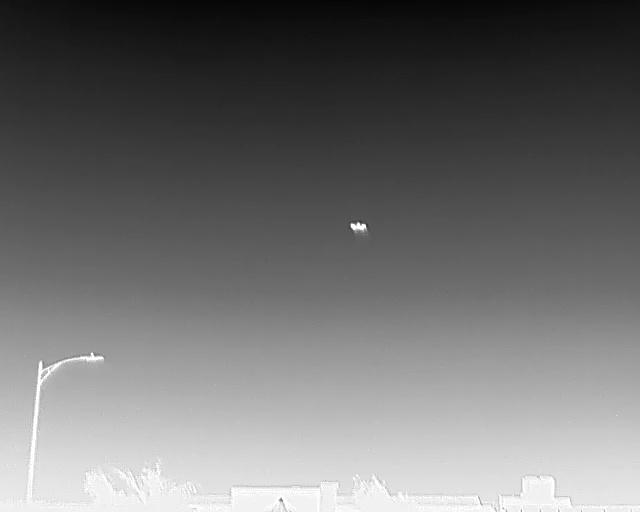fpv-drone: (350, 221, 367, 234)
